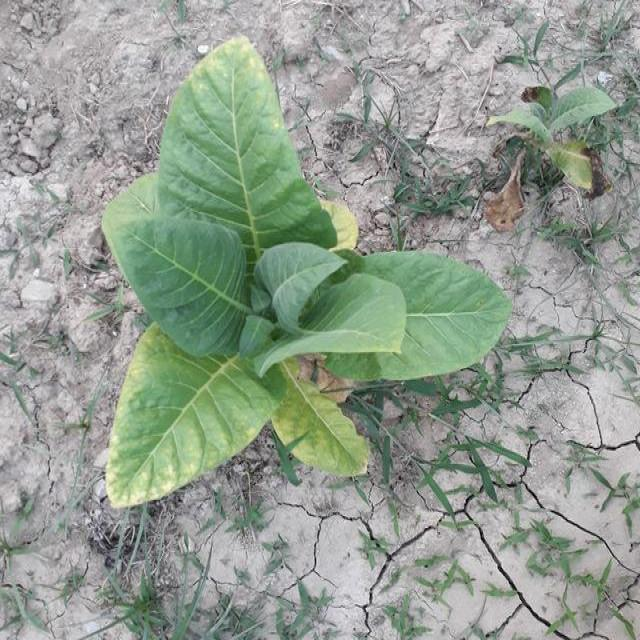crop: (106, 42, 504, 506), (509, 84, 610, 186)
